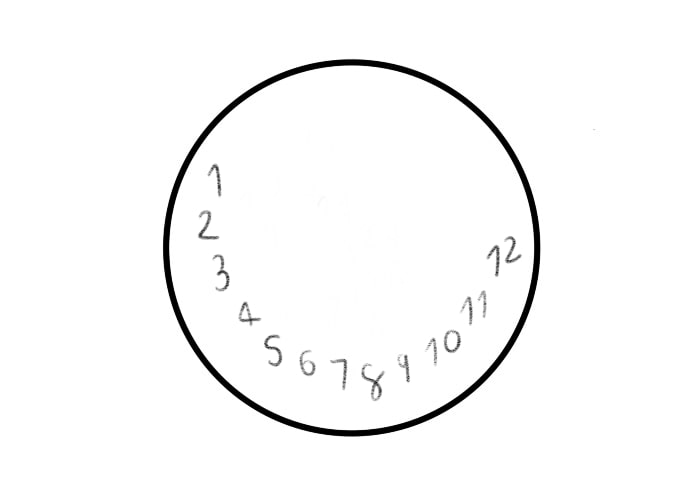eight: (360, 360, 386, 403)
eleven: (459, 290, 489, 326)
five: (264, 331, 284, 369)
four: (238, 299, 261, 328)
nine: (393, 350, 413, 385)
one: (206, 163, 225, 198)
seven: (328, 355, 349, 391)
six: (297, 345, 317, 379)
ten: (426, 329, 464, 366)
three: (213, 253, 230, 293)
twelve: (487, 234, 523, 278)
two: (197, 208, 220, 243)
